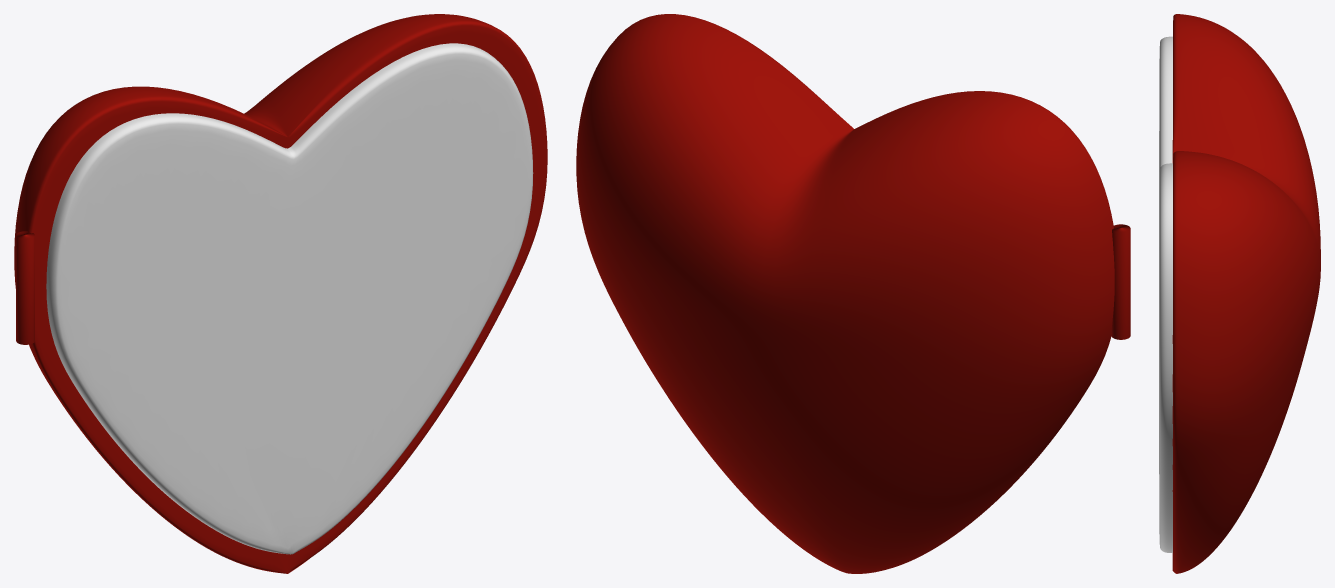
File: locket2.glb
The picture shows the model from 3 angles, left to right: view 1: azimuth 30°, elevation 25°; view 2: azimuth 150°, elevation 25°; view 3: azimuth 270°, elevation 25°; orthographic projection. The views are drawn at different scales.
Visible parts, largest first — view 1: SurfSphere.001, SurfSphere, Cylinder; view 2: SurfSphere, Cylinder; view 3: SurfSphere, SurfSphere.001.
Boxes of the visible parts, <box> form: SurfSphere.001: <box>46,43,533,554</box>; SurfSphere: <box>14,14,547,573</box>; Cylinder: <box>16,231,34,344</box>; SurfSphere: <box>576,14,1114,573</box>; Cylinder: <box>1111,224,1130,339</box>; SurfSphere: <box>1172,14,1320,573</box>; SurfSphere.001: <box>1159,36,1172,552</box>.
Size of the model in its own units: 4.69 by 4.29 by 1.33.
